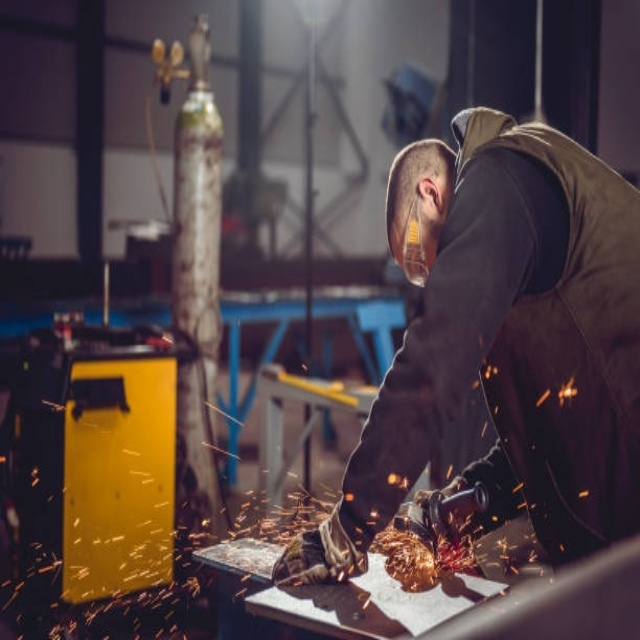Gafas: (403, 193, 431, 292)
Guantes: (269, 504, 368, 593)
